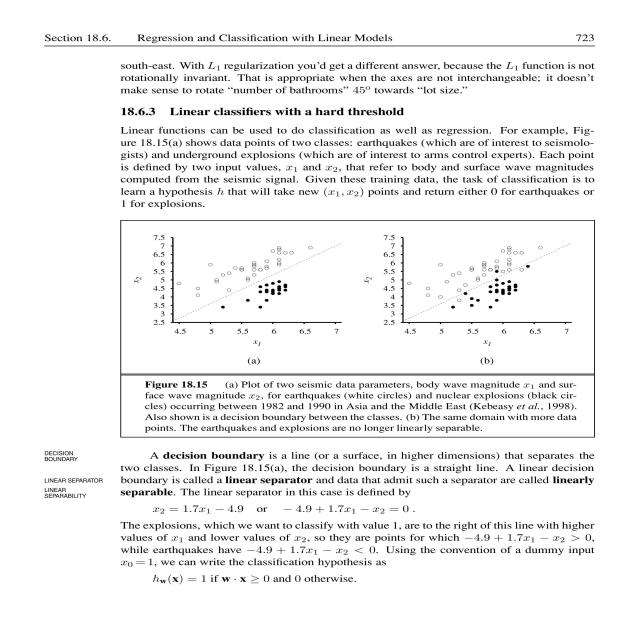diagram: (93, 212, 640, 449)
